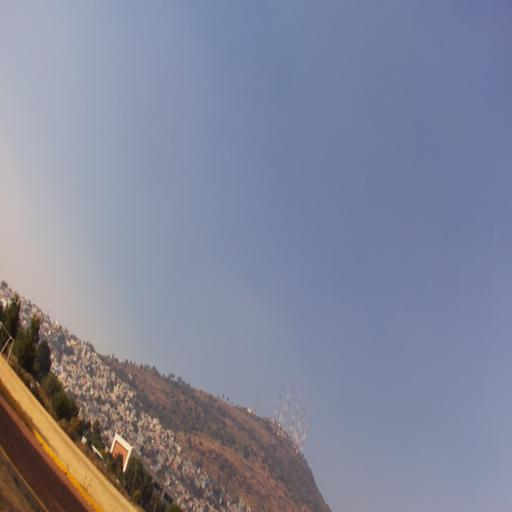drones: (290, 340, 296, 348)
